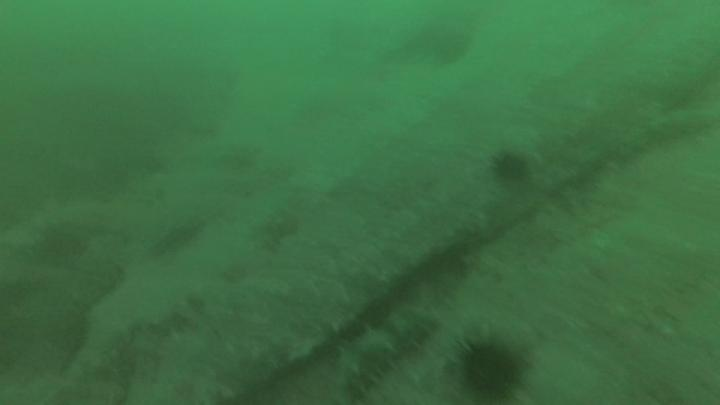echinus: (465, 345, 519, 396), (494, 153, 527, 186)
holothurian: (332, 304, 432, 402)
